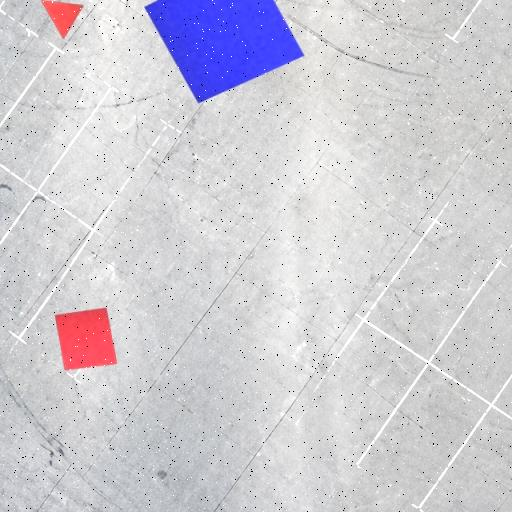BLUE_SQUARE: (144, 0, 305, 105)
RED_SQUARE: (54, 307, 118, 371)
